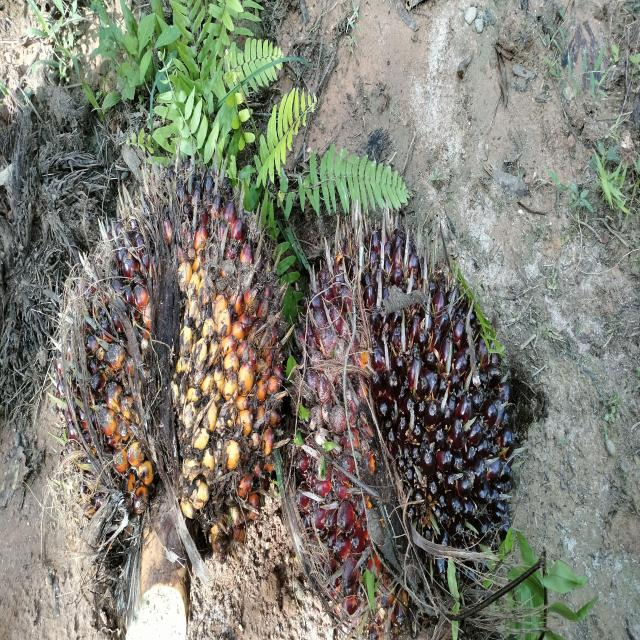fraksi 00: (279, 190, 540, 631), (51, 109, 295, 560)
